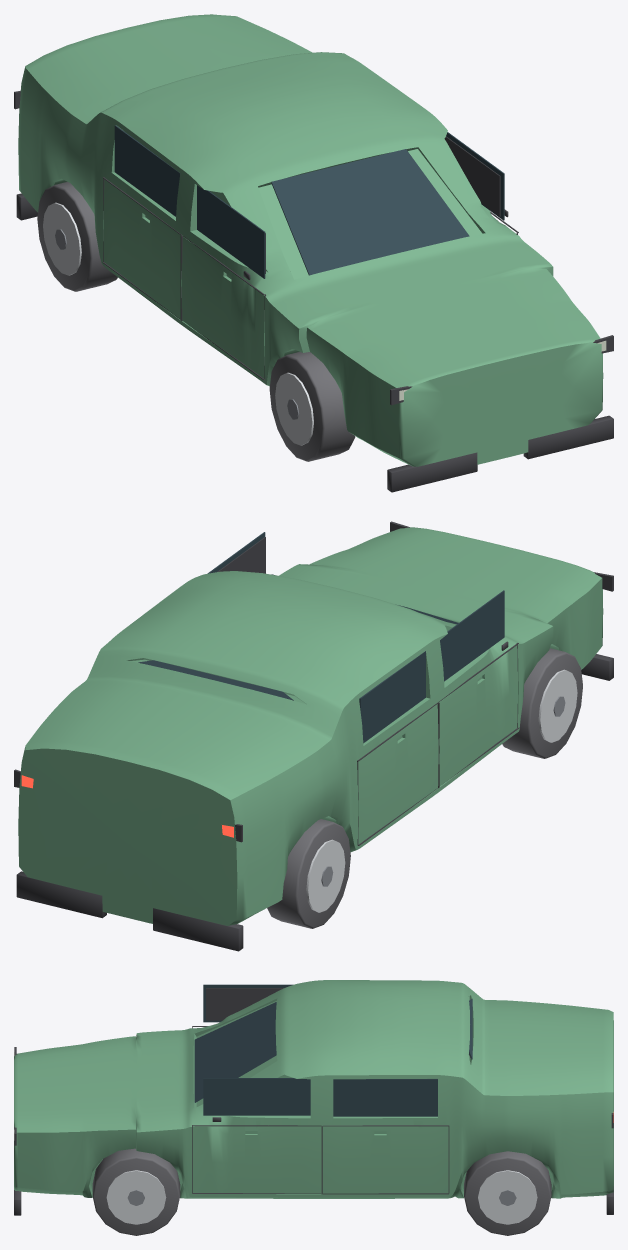
Rendered from Hatch_Compact_22.fbx.
3 views of the same model, one above another, from view 1: azimuth 30°, elevation 25°; view 2: azimuth 150°, elevation 25°; view 3: azimuth 270°, elevation 25° (orthographic). The views are drawn at different scales.
Visible parts, largest first — view 1: LOD0; view 2: LOD0; view 3: LOD0.
Part boxes in pixels (x1,y1,x2,y2): LOD0: [14, 14, 613, 492]; LOD0: [14, 521, 613, 951]; LOD0: [14, 980, 613, 1235].
Size of what is drawn, in the model's own units: 182 by 141 by 442.
